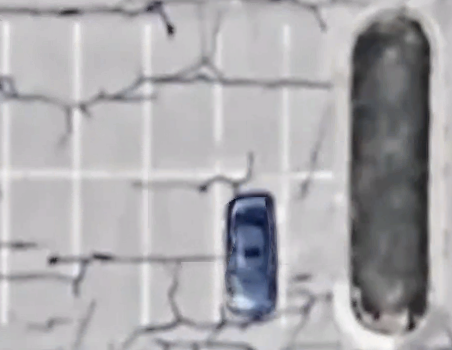Occupied: (217, 176, 283, 324)
Vacant: (147, 24, 220, 176), (6, 23, 77, 175), (77, 24, 148, 175), (146, 175, 217, 323), (75, 175, 145, 324), (5, 176, 75, 323), (220, 25, 286, 176), (283, 176, 347, 324), (286, 25, 348, 175)
